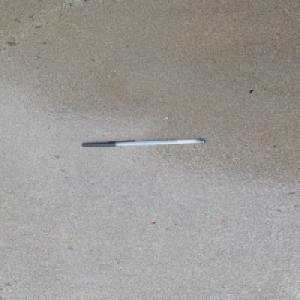Pen: (80, 138, 206, 148)
